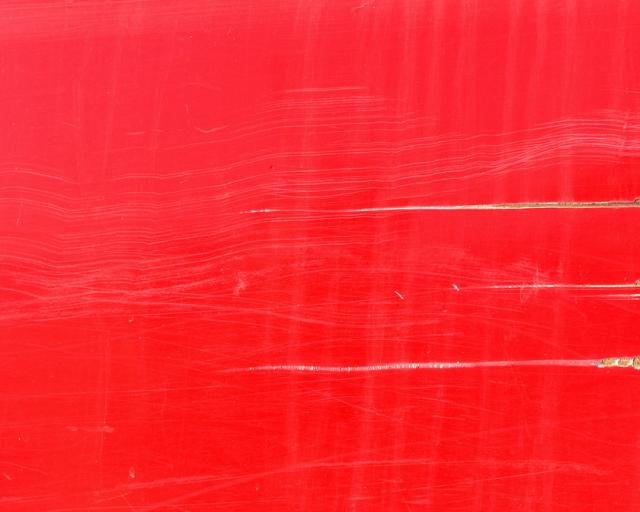scratch: (0, 33, 640, 512)
